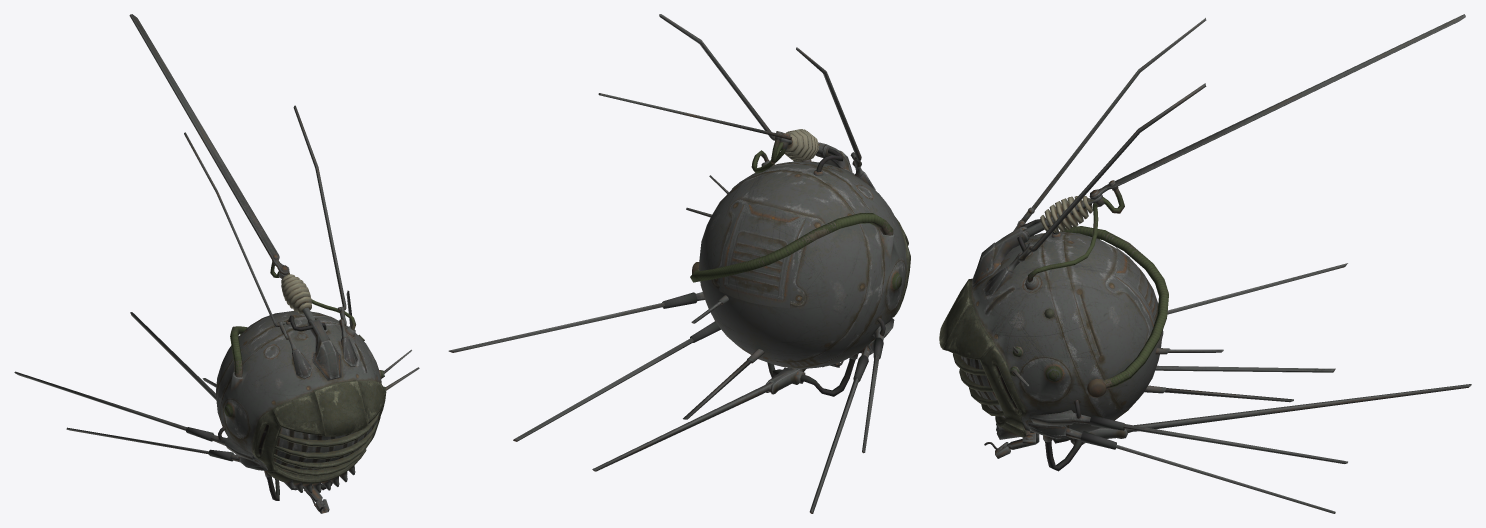
Rendered from eyebot.obj.
3 renders of one model, left to right at view 1: azimuth 30°, elevation 25°; view 2: azimuth 150°, elevation 25°; view 3: azimuth 270°, elevation 25°, orthographic. The views are drawn at different scales.
Parts seen in each view (by area): view 1: Eyebot; view 2: Eyebot; view 3: Eyebot.
Part boxes in pixels (x1,y1,x2,y2): Eyebot: [14, 14, 419, 513]; Eyebot: [448, 14, 910, 513]; Eyebot: [939, 14, 1471, 513].
Bounding box in the file's own units: 86.81 × 89.19 × 97.72.
Materials: 2 (2 with a texture image).
